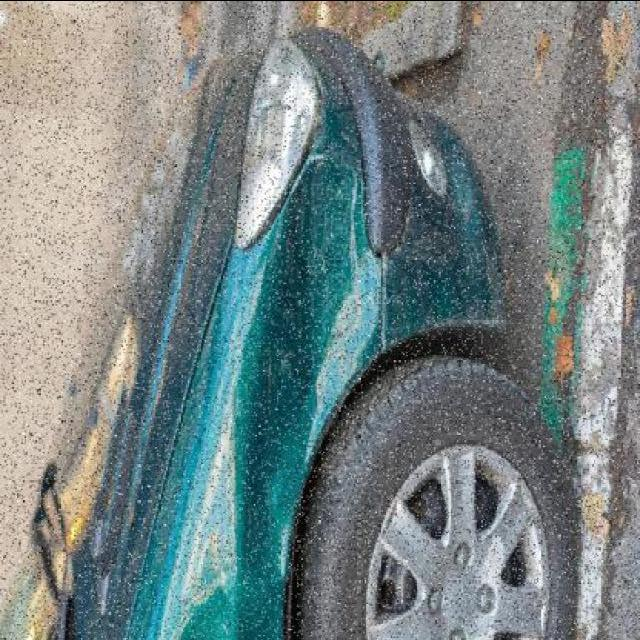fender-dent: (223, 165, 386, 640)
